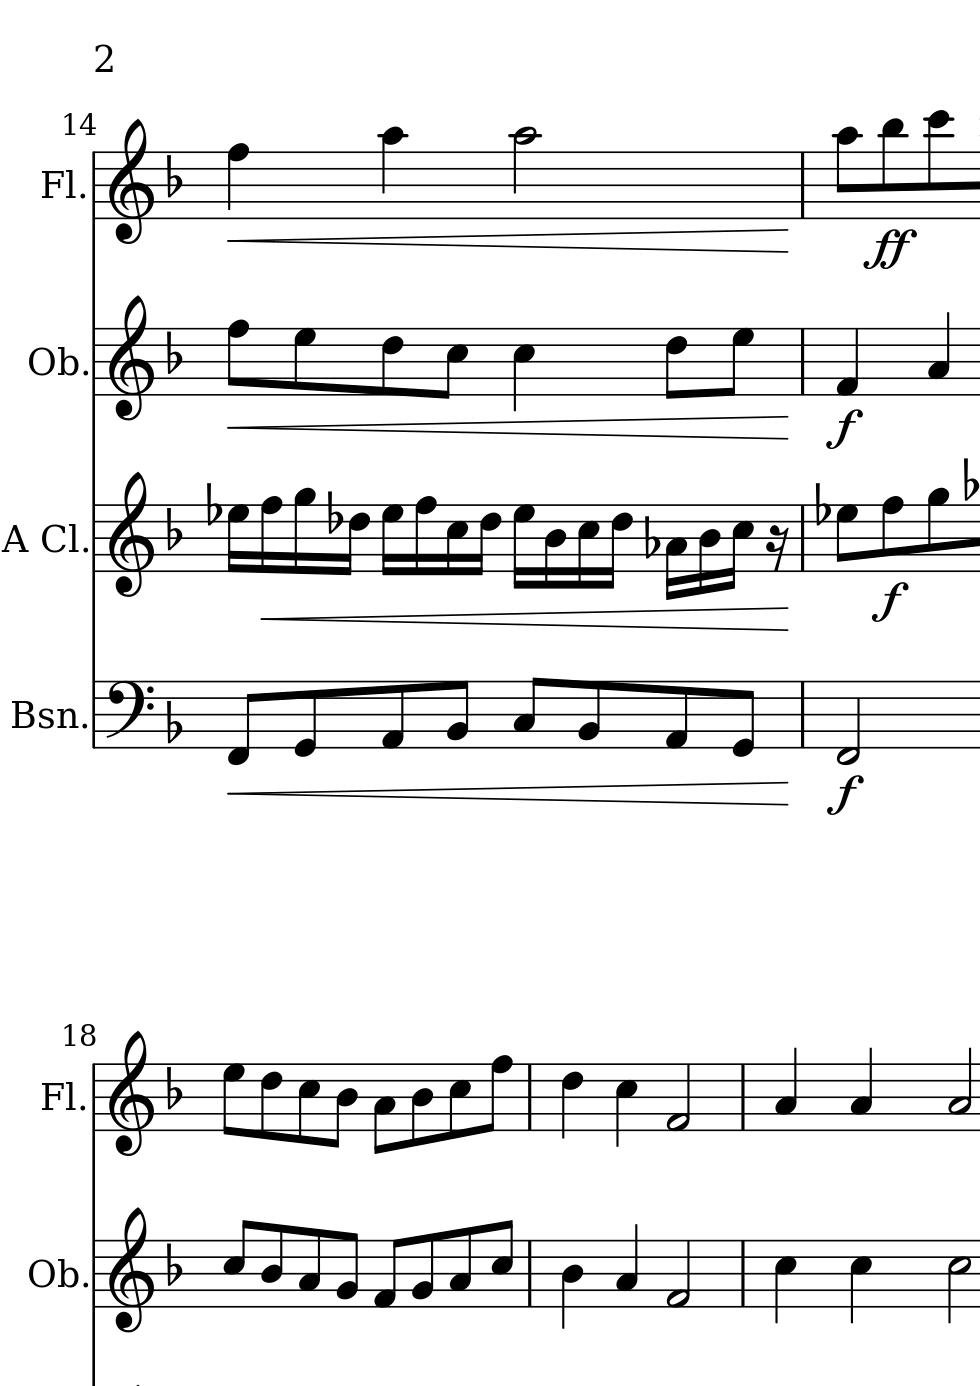1: (62, 111, 77, 139), (62, 1021, 76, 1048)
16_3: (663, 503, 687, 601)
16_4: (696, 502, 720, 595), (542, 502, 566, 591)
16_5: (723, 503, 754, 592), (574, 502, 599, 590), (443, 503, 469, 578)
16_6: (600, 502, 633, 591), (339, 503, 371, 578), (471, 502, 502, 578)
16_7: (510, 501, 536, 592), (379, 502, 404, 578), (224, 501, 249, 576)
16_8: (412, 495, 437, 577), (258, 494, 283, 575)
16_9: (291, 486, 316, 577)
2: (92, 42, 115, 74)
2_-1: (835, 679, 862, 764)
2_1: (665, 1236, 692, 1309), (665, 1062, 692, 1133)
2_10: (508, 123, 539, 222)
2_3: (947, 1046, 973, 1133)
2_5: (948, 1239, 973, 1324)
4: (78, 111, 97, 137)
4_1: (834, 327, 859, 397)
4_10: (378, 124, 406, 222)
4_3: (848, 1045, 874, 1131), (613, 1222, 638, 1308), (926, 311, 951, 396), (773, 1046, 798, 1131)
4_4: (560, 1238, 585, 1328)
4_5: (510, 326, 536, 413), (613, 1062, 638, 1148), (773, 1238, 798, 1326), (848, 1238, 872, 1327)
4_6: (559, 1062, 583, 1141)
4_8: (225, 142, 251, 221)
8: (78, 1020, 97, 1049)
8_-1: (225, 679, 259, 767)
8_0: (291, 679, 318, 760), (730, 679, 756, 758)
8_1: (372, 1236, 403, 1309), (662, 679, 690, 751), (379, 679, 406, 752)
8_10: (833, 125, 861, 221)
8_11: (877, 117, 907, 223)
8_12: (924, 109, 953, 221)
8_2: (334, 1230, 358, 1309), (576, 679, 601, 751), (410, 1232, 434, 1309), (445, 679, 470, 750)
8_3: (511, 676, 544, 751), (371, 1062, 396, 1156), (447, 1226, 474, 1309), (297, 1226, 321, 1309)
8_4: (328, 1063, 358, 1151), (259, 1222, 285, 1309), (409, 1062, 433, 1148)
8_5: (220, 1216, 253, 1308), (436, 327, 468, 402), (489, 1220, 514, 1309), (296, 1062, 319, 1146), (447, 1062, 471, 1142)
8_6: (258, 1062, 283, 1142), (663, 326, 688, 401), (379, 326, 403, 398)
8_7: (721, 326, 754, 397), (220, 1062, 246, 1138), (833, 503, 858, 574), (292, 327, 317, 397)
8_8: (482, 1054, 513, 1135), (225, 318, 250, 397), (879, 495, 904, 574)
8_9: (926, 487, 951, 574)
Bsn: (8, 697, 77, 734)
Cl: (39, 519, 80, 559)
Crescendo_hairpin: (260, 606, 790, 635), (225, 780, 790, 808), (229, 414, 788, 441), (227, 228, 789, 255)
Fclef: (102, 679, 153, 751)
Fl: (38, 166, 77, 204), (38, 1078, 77, 1113)
Flat: (162, 152, 183, 199), (162, 1241, 183, 1287), (163, 329, 183, 378), (163, 505, 183, 552), (203, 480, 222, 530), (163, 1065, 183, 1111), (323, 489, 343, 537), (164, 698, 183, 744), (812, 481, 832, 527), (642, 514, 659, 560), (961, 456, 976, 503)
Gclef: (105, 470, 156, 599), (105, 117, 156, 245), (106, 294, 156, 423), (106, 1029, 154, 1157), (107, 1205, 154, 1335)
Ob: (27, 343, 80, 383), (27, 1252, 78, 1293)
Rests16: (764, 523, 789, 574)
Single_barline: (795, 328, 812, 396), (794, 152, 811, 218), (521, 1064, 538, 1130), (734, 1241, 751, 1306), (86, 151, 102, 220), (87, 1240, 103, 1309), (86, 681, 102, 749), (86, 1064, 102, 1131), (735, 1064, 751, 1130), (522, 1241, 538, 1306), (794, 506, 810, 571), (87, 328, 102, 397), (87, 505, 102, 573), (795, 682, 810, 748)
f: (825, 773, 864, 815), (825, 408, 864, 450), (870, 581, 908, 622)
ff: (862, 229, 914, 273)
